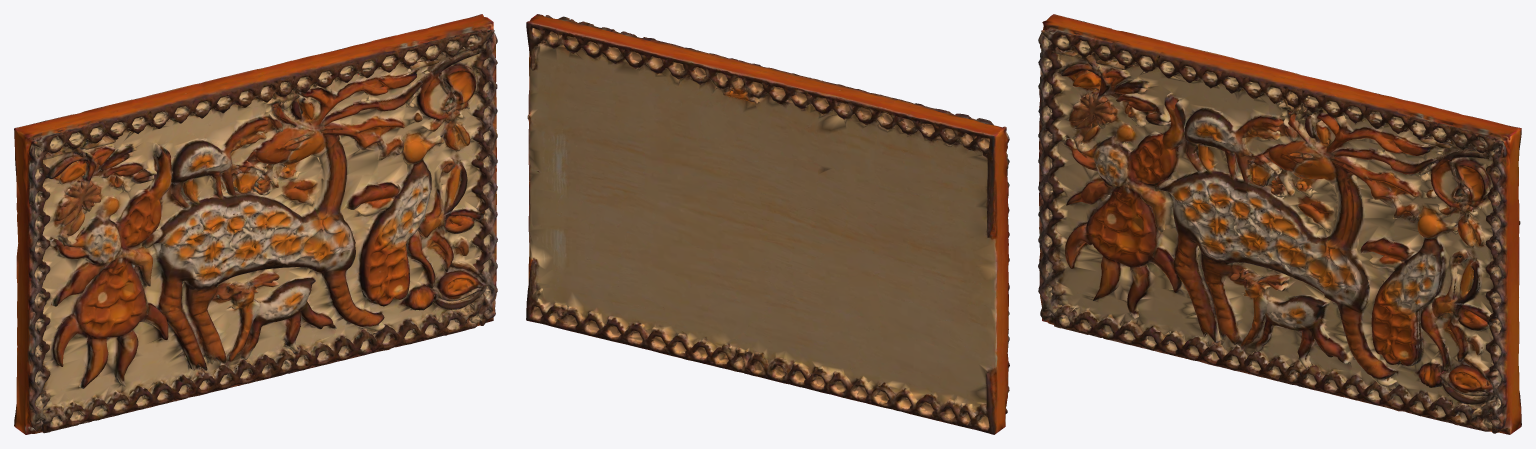
File: Sohrai Khovar Tribal.glb
3 views of the same model, side by side, from view 1: azimuth 30°, elevation 25°; view 2: azimuth 150°, elevation 25°; view 3: azimuth 330°, elevation 25° (orthographic).
Bounding box in the file's own units: 1.9 × 1.16 × 0.1405.
Materials: 1 (1 with a texture image).
